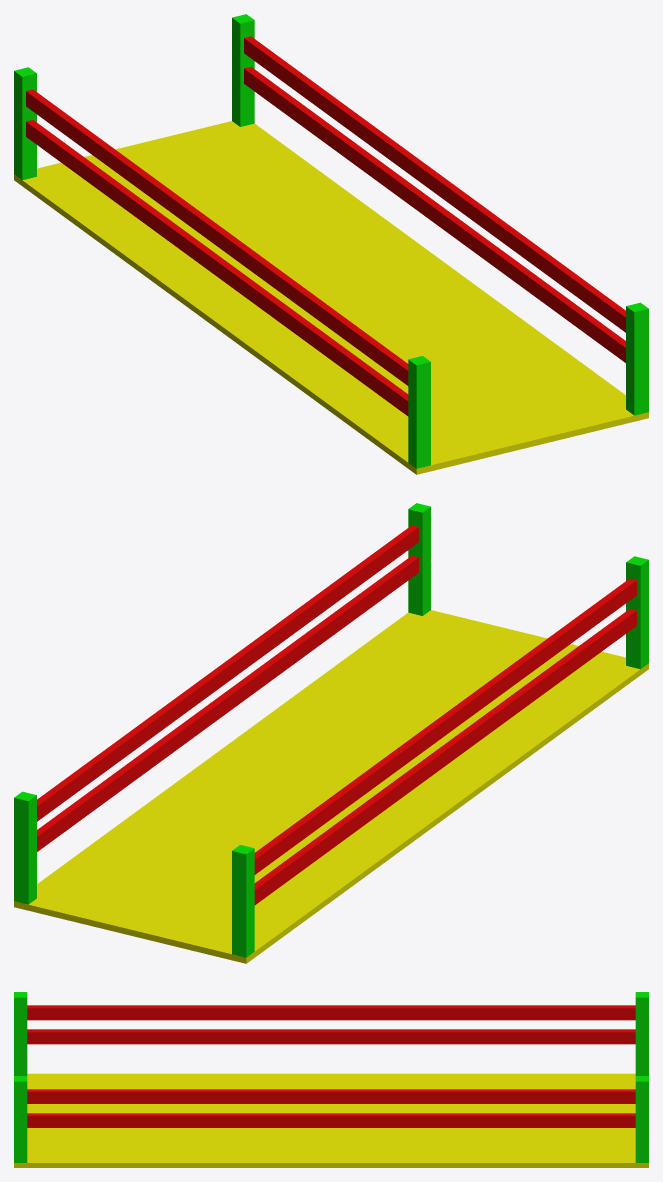
The model's file is WalkwayA_SM (5).fbx.
3 renders of one model, top to bottom at view 1: azimuth 30°, elevation 25°; view 2: azimuth 150°, elevation 25°; view 3: azimuth 270°, elevation 25°, orthographic. The views are drawn at different scales.
Visible parts, largest first — view 1: polySurface17; view 2: polySurface17; view 3: polySurface17.
Part boxes in pixels (x1,y1,x2,y2): polySurface17: (14, 14, 648, 474); polySurface17: (14, 503, 648, 963); polySurface17: (14, 992, 648, 1167).
Size of the model in its own units: 8 by 3.6 by 24.
